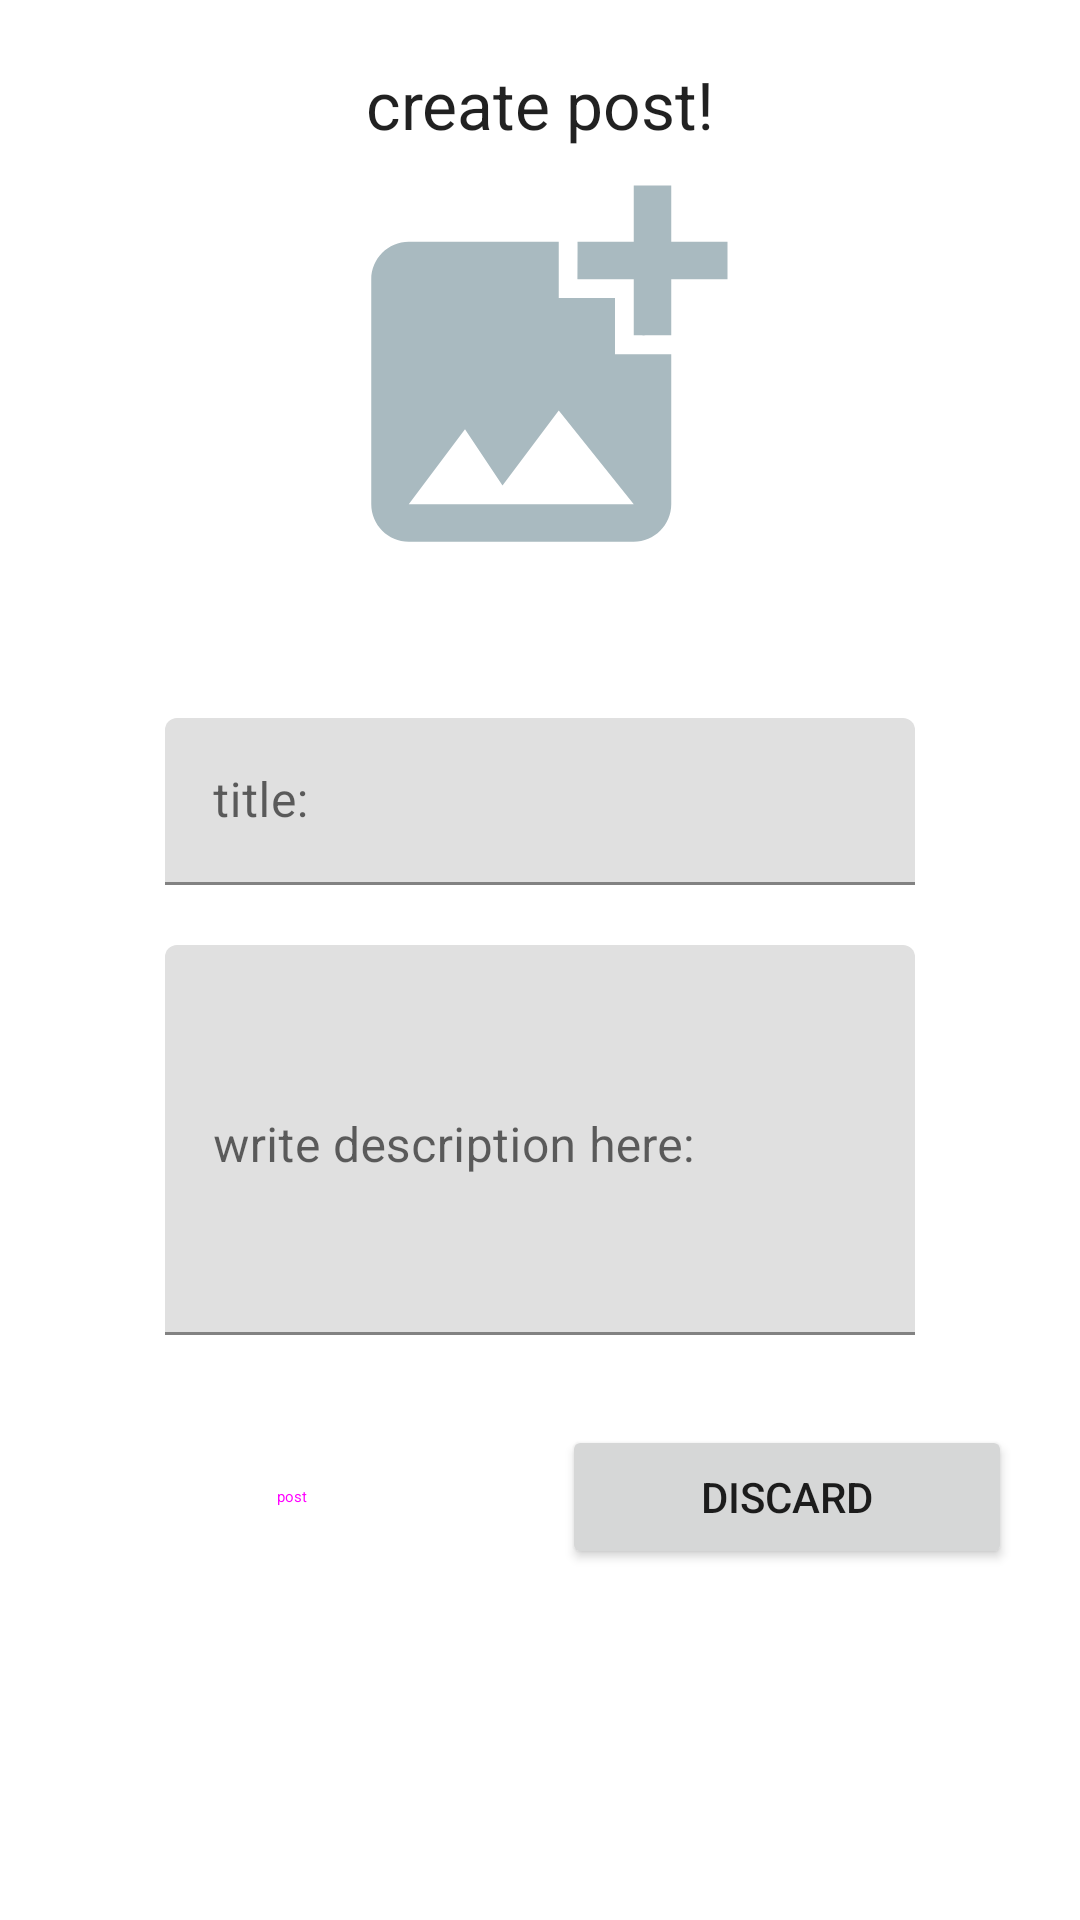

Point at icon controls on the screen. Image size 1080×1920, points as (x=x, y=y).
add post image: (x=549, y=363)
